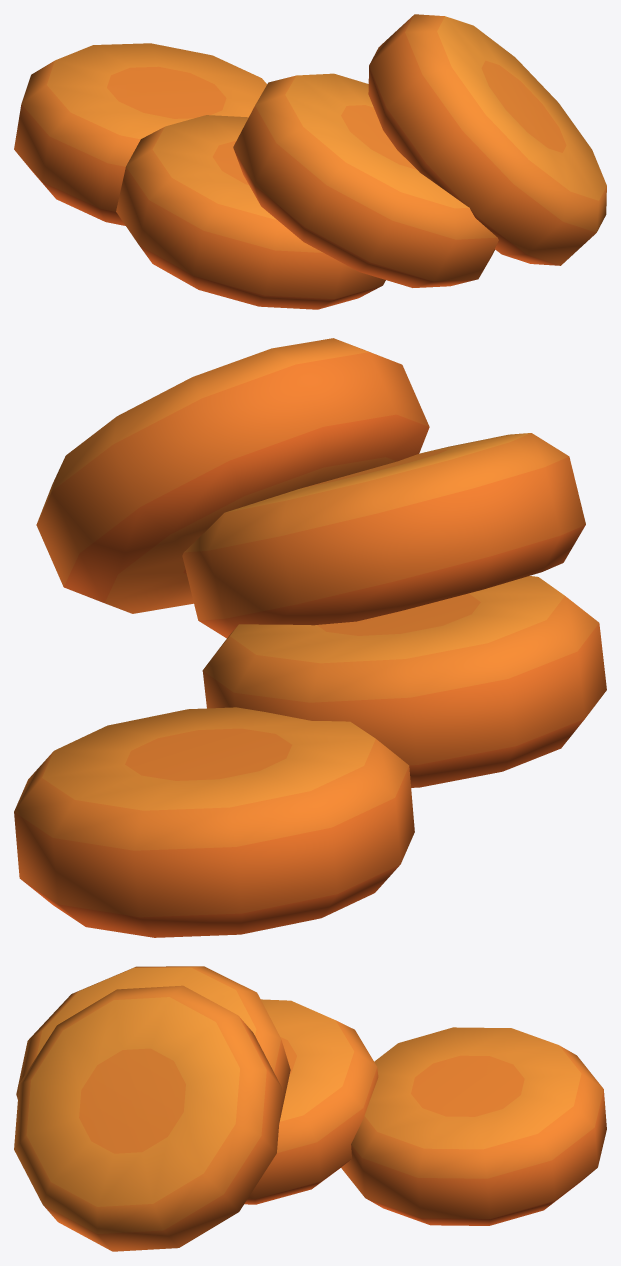
The model's file is food_ingredient_carrot_pieces.obj.
3 renders of one model, top to bottom at view 1: azimuth 30°, elevation 25°; view 2: azimuth 150°, elevation 25°; view 3: azimuth 270°, elevation 25°, orthographic. The views are drawn at different scales.
Parts seen in each view (by area): view 1: food_ingredient_carrot_pieces_Cylinder.1025; view 2: food_ingredient_carrot_pieces_Cylinder.1025; view 3: food_ingredient_carrot_pieces_Cylinder.1025.
Boxes of the visible parts, x1,y1,x2,y2 form: food_ingredient_carrot_pieces_Cylinder.1025: (14,14,606,309); food_ingredient_carrot_pieces_Cylinder.1025: (14,338,606,937); food_ingredient_carrot_pieces_Cylinder.1025: (14,966,606,1251).
Size of the model in its own units: 0.543 by 0.3226 by 0.7191.
1 material, 1 textured.
